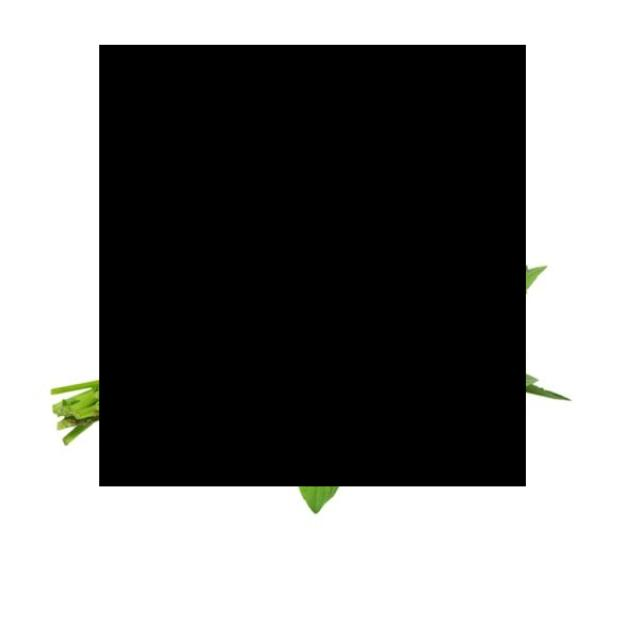Green_Mint: (100, 46, 527, 487)
